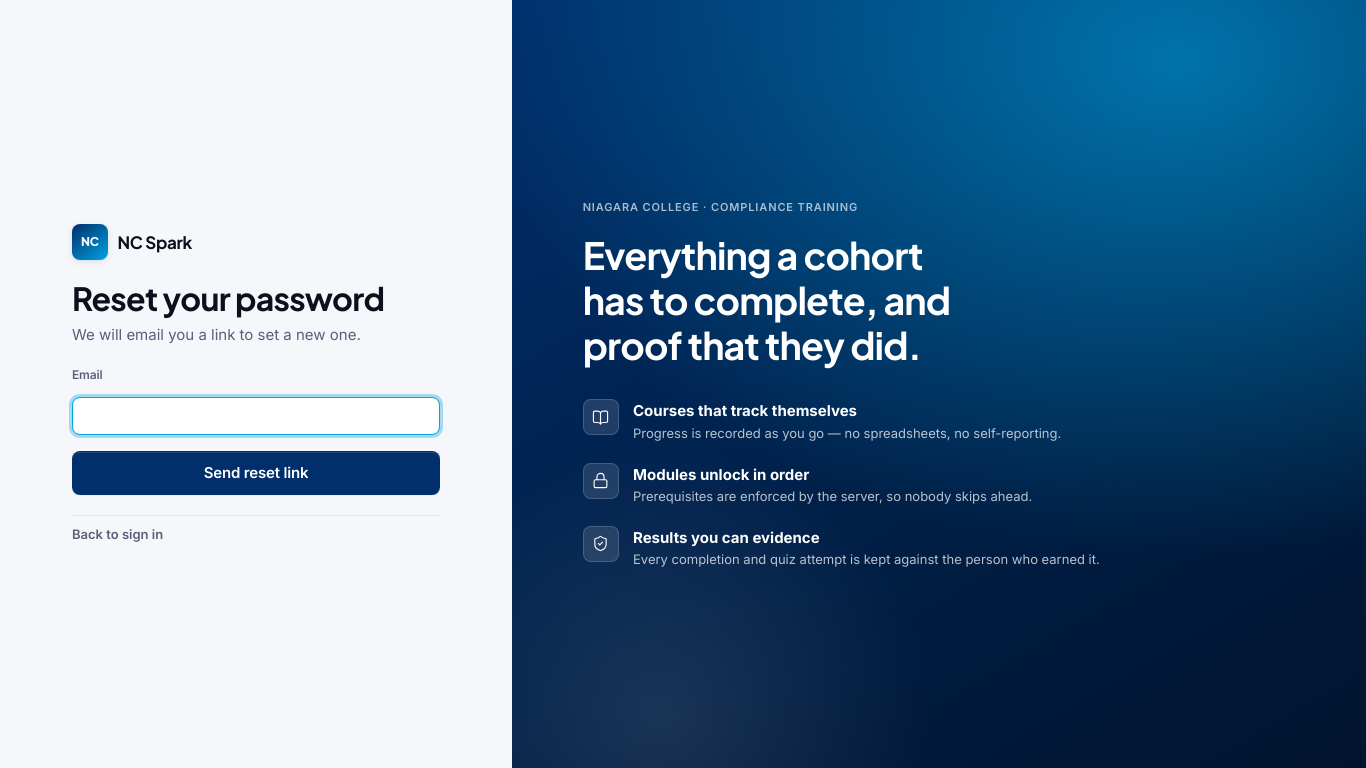
Test: what it says afterwards › confirms without saying whether the account exists
In the field labelled "Email": (256, 416) [72, 397, 440, 435], type "someone@example.com"
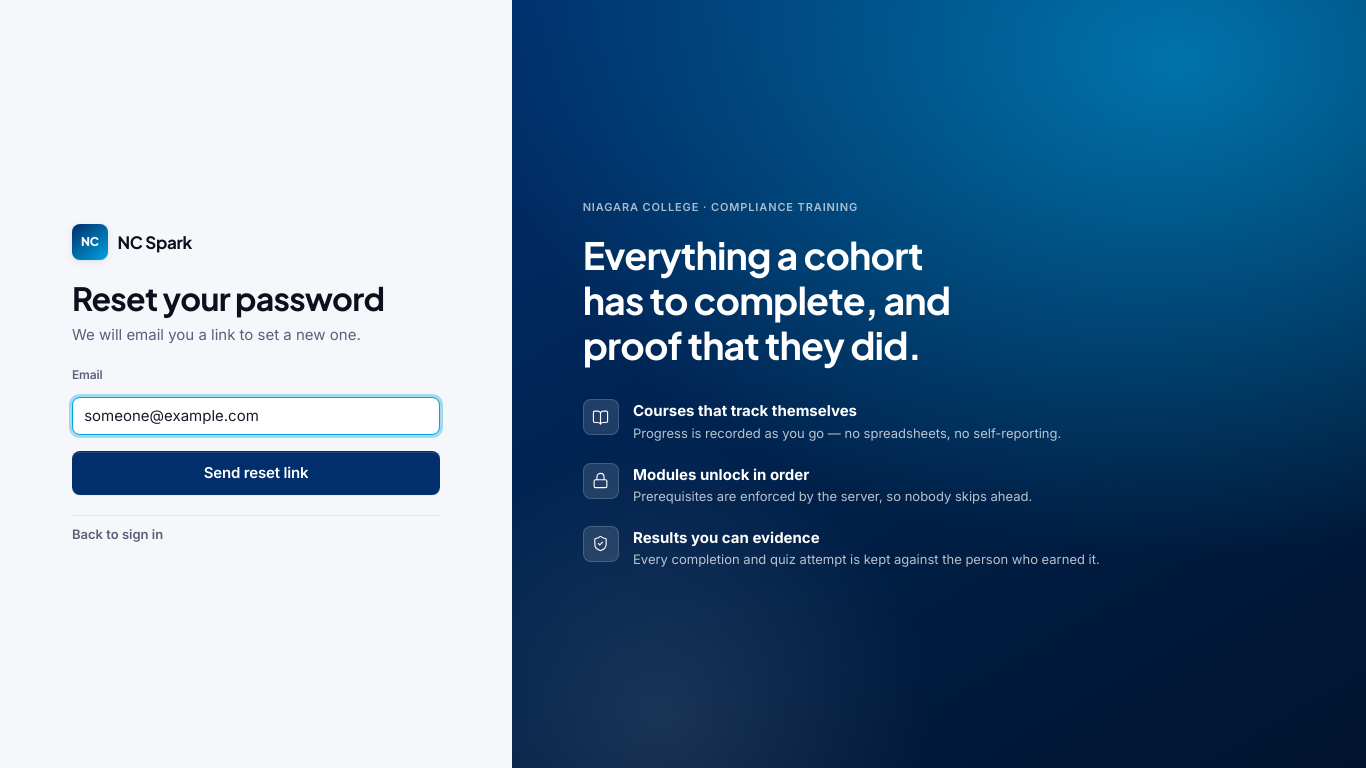
Click the button "Send reset link": (256, 473) [72, 451, 440, 495]
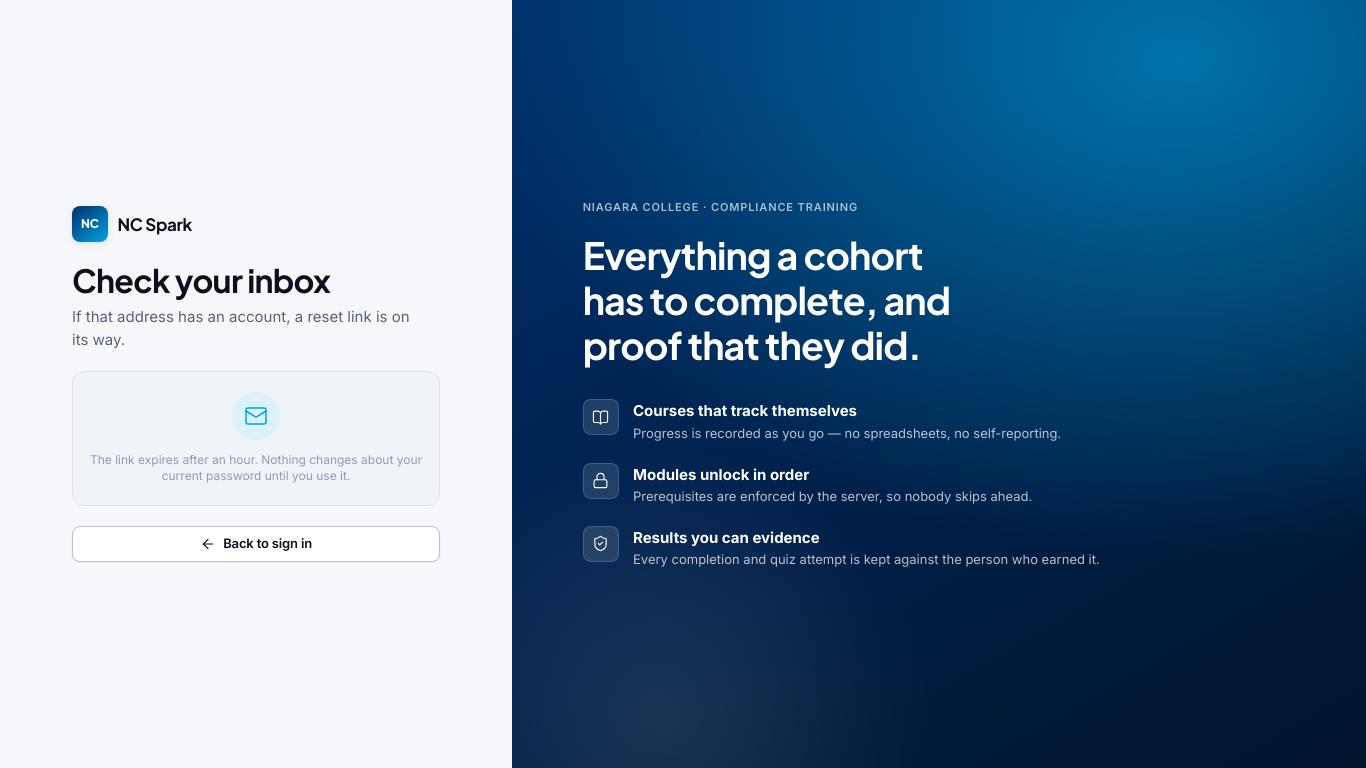
Result: the text "If that address has an account, a reset link is on its way." is shown at [72, 305, 440, 351]
